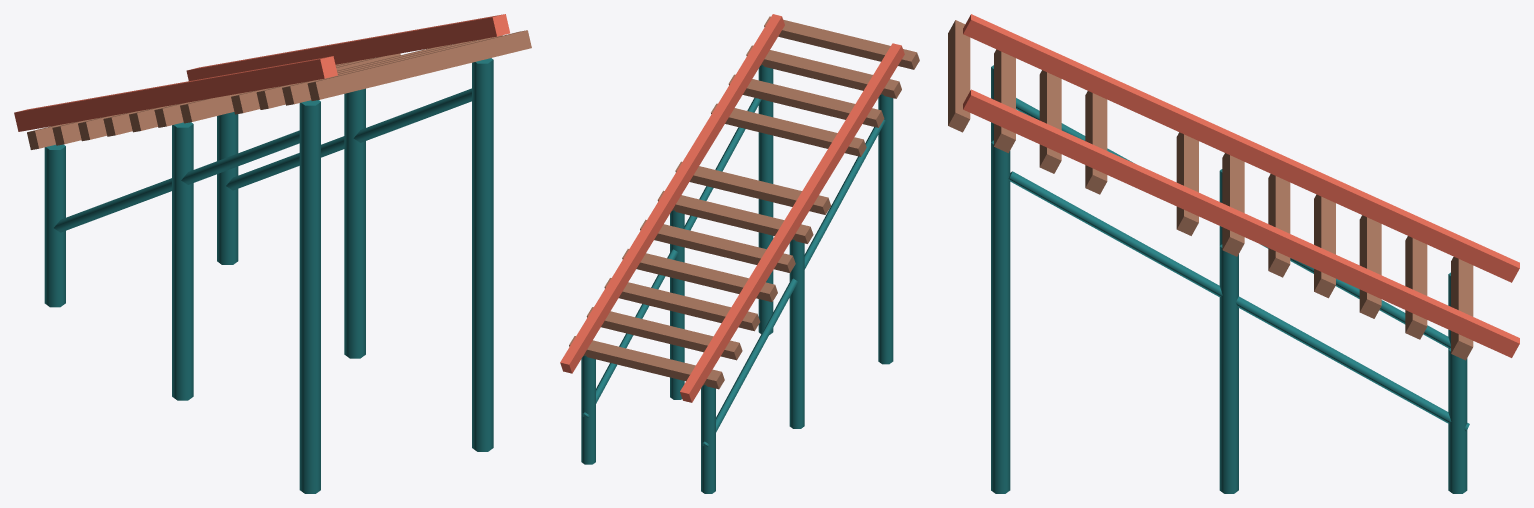
File: track_slope_up.glb
3 views of the same model, side by side, from view 1: azimuth 30°, elevation 25°; view 2: azimuth 150°, elevation 25°; view 3: azimuth 270°, elevation 25° (orthographic). The views are drawn at different scales.
Parts seen in each view (by area): view 1: track_slope_up; view 2: track_slope_up; view 3: track_slope_up.
Part boxes in pixels (box(x1,y1,x2,y2)): track_slope_up: box(14, 14, 531, 493); track_slope_up: box(560, 14, 919, 493); track_slope_up: box(948, 14, 1519, 493).
Size of the model in its own units: 1.6 by 3.2 by 4.17.
